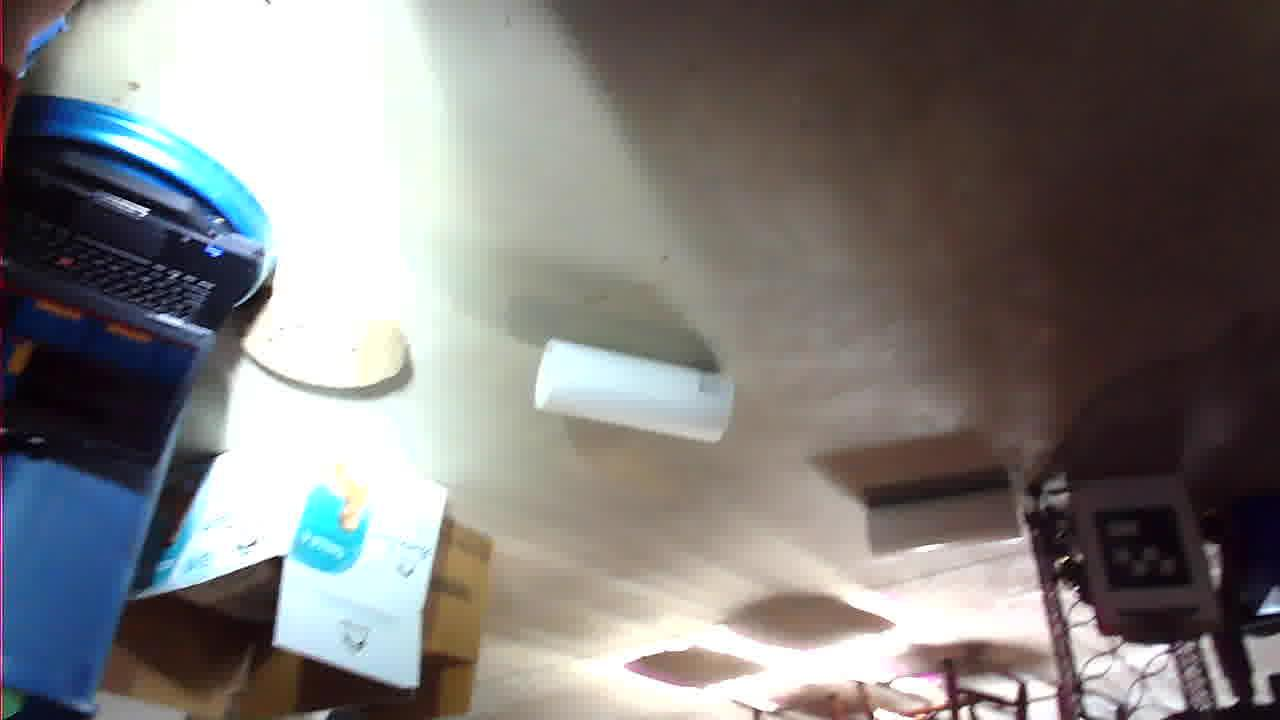coral: (546, 274, 747, 383), (259, 158, 417, 232)
